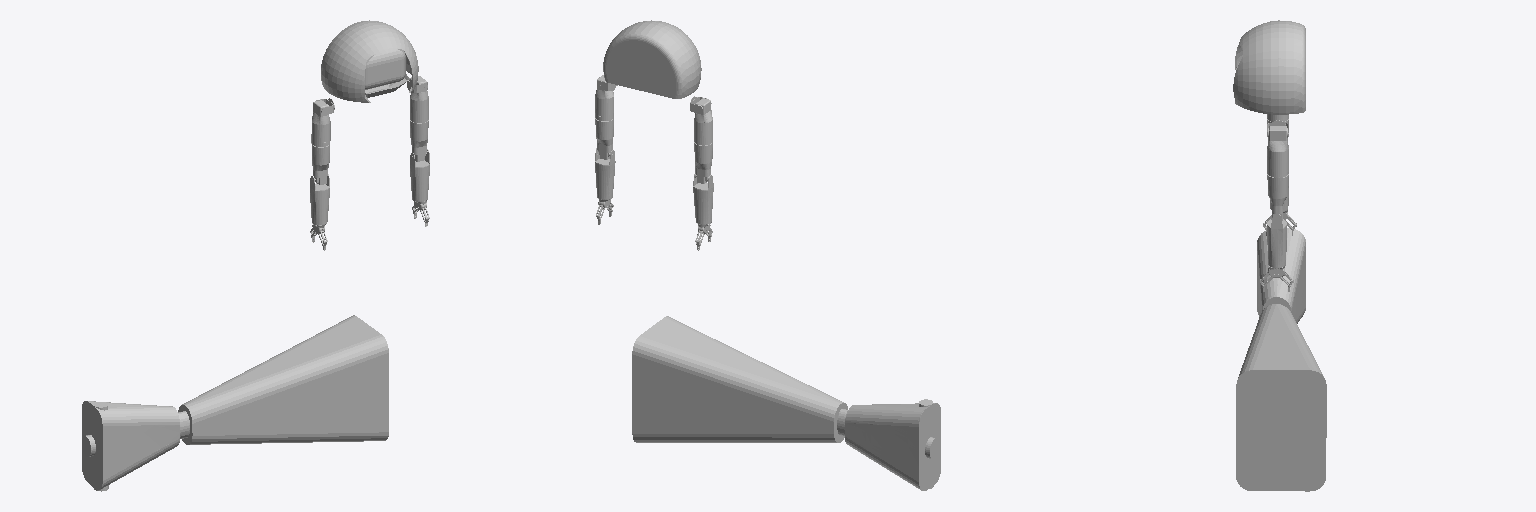
URDF robot description (main_body):
<?xml version="1.0"?>
   <robot xmlns:xacro="http://ros.org/wiki/xacro" name="main_body">
   
   <link name="base_link">
       <visual name="">
           <origin xyz="0.0 0.0 0.0" rpy="-1.5750 0.0 0.0"/>
           <geometry>
               <mesh filename="package://anya_v2/meshes/body.dae" scale="0.001 0.001 0.001"/>
           </geometry>
       </visual>
       <collision>
            <origin xyz="0.0 0.0 0.0" rpy="-1.5750 0.0 0.0"/>
            <geometry>
                <mesh filename="package://anya_v2/meshes/body.stl" scale="0.001 0.001 0.001"/>
            </geometry>
       </collision>
   </link>
   
    <link name="disc1_link">
       <visual>
          <geometry>   
            <mesh filename="package://anya_v2/meshes/disc.dae" scale="0.001 0.001 0.001"/>                  
          </geometry>
          <origin xyz="0.0 0.0 0.0" rpy="0 0 0"/>         
       </visual>
     </link>
     <joint name="disc1_joint" type="revolute">
         <parent link="base_link"/>
         <child link="disc1_link"/>
         <axis xyz="0 1 0"/>
         <limit lower="-1.59" upper="1.59" velocity="50.0" effort="1000.0"/>
         <origin xyz="0.16 -0.01 1.084" rpy="-1.575 1.575 0"/>
     </joint>

   <link name="lc5_link">
       <visual>
          <geometry>   
            <mesh filename="package://anya_v2/meshes/c5.dae" scale="0.001 0.001 0.001"/>                  
          </geometry>
          <origin xyz="0.0 0.0 0" rpy="0 0 0"/>         
       </visual>
       <collision>
         <geometry>
            <mesh filename="package://anya_v2/meshes/c5.stl" scale="0.001 0.001 0.001"/>
         </geometry>
       </collision>
       <inertial>
         <mass value="0.016"/>
         <inertia ixx="0.0" ixy="0.0" ixz="0.0" iyy="0.0" iyz="0.0" izz="0.0"/>
       </inertial>
     </link>
     <joint name="l1_joint" type="fixed">
         <parent link="disc1_link"/>
         <child link="lc5_link"/>
         <origin xyz="0 -0.035 -0.025" rpy="-1.575 3.14 0"/>
     </joint>
     
     <link name="lc4_link">
       <visual>
        <geometry>
          <mesh filename="package://anya_v2/meshes/c4.dae" scale="0.001 0.001 0.001"/>
        </geometry>
        <origin xyz="0.0 -0.005 0.0" rpy="0.0 0.0 0.0"/>
       </visual>
       <collision>
         <geometry>
            <mesh filename="package://anya_v2/meshes/c4.stl" scale="0.001 0.001 0.001"/>
         </geometry>
       </collision>
       <inertial>
         <mass value="0.237"/>
         <inertia ixx="0.0" ixy="0.0" ixz="0.0" iyy="0.0" iyz="0.0" izz="0.0"/>
       </inertial>
     </link>

     <joint name="l2_joint" type="revolute">
       <parent link="lc5_link"/>
       <child link="lc4_link"/>
       <axis xyz="0 1 0"/>
       <limit lower="-3.14159" upper="3.14159" velocity="50.0" effort="1000.0"/>
       <origin xyz="0 -0.0 0" rpy="0 0 0"/>
     </joint> 

      <link name="lc3_link">
       <visual>
        <geometry>
          <mesh filename="package://anya_v2/meshes/c3.dae" scale="0.001 0.001 0.001"/>
        </geometry>
        <origin xyz="-0 0 0.0" rpy="0 0 0.0"/>
       </visual>
       <collision>
         <geometry>
            <mesh filename="package://anya_v2/meshes/c3.stl" scale="0.001 0.001 0.001"/>
         </geometry>
       </collision>
       <inertial>
         <mass value="0.131"/>
         <inertia ixx="0.0" ixy="0.0" ixz="0.0" iyy="0.0" iyz="0.0" izz="0.0"/>
       </inertial>
     </link>

     <joint name="l3_joint" type="revolute">
       <parent link="lc4_link"/>
       <child link="lc3_link"/>
       <axis xyz="1 0 0"/>
       <limit lower="-3.14159" upper="3.14159" velocity="50.0" effort="1000.0"/>
       <origin xyz="-0.130 0.025 0.0" rpy="0 0 0"/>
     </joint>

     <link name="lc2_link">
       <visual>
        <geometry>
          <mesh filename="package://anya_v2/meshes/c2.dae" scale="0.001 0.001 0.001"/>
        </geometry>
        <origin xyz="0 0 0.0" rpy="0 0 0.0"/>
       </visual>
       <collision>
         <geometry>
            <mesh filename="package://anya_v2/meshes/c2.stl" scale="0.001 0.001 0.001"/>
         </geometry>
       </collision>
       <inertial>
         <mass value="0.146"/>
         <inertia ixx="0.0" ixy="0.0" ixz="0.0" iyy="0.0" iyz="0.0" izz="0.0"/>
       </inertial>
     </link>

     <joint name="l4_joint" type="revolute">
       <parent link="lc3_link"/>
       <child link="lc2_link"/>
       <axis xyz="0 0 1"/>
       <limit lower="-3.14159" upper="3.14159" velocity="50.0" effort="1000.0"/>
       <origin xyz="-0.13950 -0.004 -0.02250" rpy="0 0 0"/>
     </joint>

     <link name="lc1_link">
       <visual>
        <geometry>
          <mesh filename="package://anya_v2/meshes/gripper.dae" scale="0.001 0.001 0.001"/>
        </geometry>
        <origin xyz="-0 0 0.0" rpy="0 0 0.0"/>
       </visual>
       <collision>
         <geometry>
            <mesh filename="package://anya_v2/meshes/gripper.stl" scale="0.001 0.001 0.001"/>
         </geometry>
       </collision>
       <inertial>
         <mass value="0.083"/>
         <inertia ixx="0.0" ixy="0.0" ixz="0.0" iyy="0.0" iyz="0.0" izz="0.0"/>
       </inertial>
     </link>
     <joint name="l5_joint" type="revolute">
       <parent link="lc2_link"/>
       <child link="lc1_link"/>
       <axis xyz="1 0 0"/>
       <limit lower="-3.14159" upper="3.14159" velocity="50.0" effort="1000.0"/>
       <origin xyz="-0.17 0.0 0.02" rpy="0 0 0"/>
     </joint>
     <!--
     <link name="gripper_link">
       <visual>
        <geometry>
          <mesh filename="package://anya_v2/meshes/gripper.dae" scale="0.001 0.001 0.001"/>
        </geometry>
        <origin xyz="-0 0 0.0" rpy="0 0 0.0"/>
       </visual>
       <collision>
         <geometry>
            <mesh filename="package://anya_v2/meshes/gripper.stl" scale="0.001 0.001 0.001"/>
         </geometry>
       </collision>
       <inertial>
         <mass value="0.083"/>
         <inertia ixx="0.0" ixy="0.0" ixz="0.0" iyy="0.0" iyz="0.0" izz="0.0"/>
       </inertial>
     </link>
     <joint name="gripper_joint" type="fixed">
       <parent link="lc1_link"/>
       <child link="gripper_link"/>
       <origin xyz="-0.113 0.0 0.0" rpy="0 0 0"/>
     </joint>
-->
       <link name="disc_link">
       <visual>
          <geometry>   
            <mesh filename="package://anya_v2/meshes/disc.dae" scale="0.001 0.001 0.001"/>                  
          </geometry>
          <origin xyz="0.0 0.0 0.0" rpy="0 0 0"/>         
       </visual>
     </link>
     <joint name="disc_joint" type="revolute">
         <parent link="base_link"/>
         <child link="disc_link"/>
         <axis xyz="0 1 0"/>
         <limit lower="-1.59" upper="1.59" velocity="50.0" effort="1000.0"/>
         <origin xyz="-0.16 -0.01 1.084" rpy="-1.575 1.575 0"/>
     </joint>
     <link name="rone_link">
       <visual>
          <geometry>   
            <mesh filename="package://anya_v2/meshes/c5.dae" scale="0.001 0.001 0.001"/>                  
          </geometry>
          <origin xyz="0.0 0.0 0.0" rpy="0 0 0"/>         
       </visual>
       <collision>
         <geometry>
            <mesh filename="package://anya_v2/meshes/c5.stl" scale="0.001 0.001 0.001"/>
         </geometry>
       </collision>
       <inertial>
         <mass value="0.016"/>
         <inertia ixx="0.0" ixy="0.0" ixz="0.0" iyy="0.0" iyz="0.0" izz="0.0"/>
       </inertial>
     </link>
      <joint name="r1_joint" type="fixed">
         <parent link="disc_link"/>
         <child link="rone_link"/>
         <origin xyz="0.0 0.039 0.025" rpy="1.575 3.14 0"/>
     </joint>

     <link name="c4_link">
       <visual>
        <geometry>
          <mesh filename="package://anya_v2/meshes/c4.dae" scale="0.001 0.001 0.001"/>
        </geometry>
        <origin xyz="0.0 -0.005 0.0" rpy="0.0 0.0 0.0"/>
       </visual>
       <collision>
         <geometry>
            <mesh filename="package://anya_v2/meshes/c4.stl" scale="0.001 0.001 0.001"/>
         </geometry>
       </collision>
       <inertial>
         <mass value="0.237"/>
         <inertia ixx="0.0" ixy="0.0" ixz="0.0" iyy="0.0" iyz="0.0" izz="0.0"/>
       </inertial>
     </link>
     <joint name="first_joint" type="revolute">
       <parent link="rone_link"/>
       <child link="c4_link"/>
       <axis xyz="0 1 0"/>
       <limit lower="-3.14159" upper="3.14159" velocity="50.0" effort="1000.0"/>
       <origin xyz="0 -0.0 0" rpy="0 0 0"/>
     </joint> 
      <link name="c3_link">
       <visual>
        <geometry>
          <mesh filename="package://anya_v2/meshes/c3.dae" scale="0.001 0.001 0.001"/>
        </geometry>
        <origin xyz="-0 0 0.0" rpy="0 0 0.0"/>
       </visual>
       <collision>
         <geometry>
            <mesh filename="package://anya_v2/meshes/c3.stl" scale="0.001 0.001 0.001"/>
         </geometry>
       </collision>
       <inertial>
         <mass value="0.131"/>
         <inertia ixx="0.0" ixy="0.0" ixz="0.0" iyy="0.0" iyz="0.0" izz="0.0"/>
       </inertial>
     </link>
     <joint name="second_joint" type="revolute">
       <parent link="c4_link"/>
       <child link="c3_link"/>
       <axis xyz="1 0 0"/>
       <limit lower="-3.14159" upper="3.14159" velocity="50.0" effort="1000.0"/>
       <origin xyz="-0.130 0.025 0.0" rpy="0 0 0"/>
     </joint>
     <link name="c2_link">
       <visual>
        <geometry>
          <mesh filename="package://anya_v2/meshes/c2.dae" scale="0.001 0.001 0.001"/>
        </geometry>
        <origin xyz="0 0 0.0" rpy="0 0 0.0"/>
       </visual>
       <collision>
         <geometry>
            <mesh filename="package://anya_v2/meshes/c2.stl" scale="0.001 0.001 0.001"/>
         </geometry>
       </collision>
       <inertial>
         <mass value="0.146"/>
         <inertia ixx="0.0" ixy="0.0" ixz="0.0" iyy="0.0" iyz="0.0" izz="0.0"/>
       </inertial>
     </link>
     <joint name="third_joint" type="revolute">
       <parent link="c3_link"/>
       <child link="c2_link"/>
       <axis xyz="0 0 1"/>
       <limit lower="-3.14159" upper="3.14159" velocity="50.0" effort="1000.0"/>
       <origin xyz="-0.13950 -0.004 -0.02250" rpy="0 0 0"/>
     </joint>
     <link name="c1_link">
       <visual>
        <geometry>
          <mesh filename="package://anya_v2/meshes/gripper.dae" scale="0.001 0.001 0.001"/>
        </geometry>
        <origin xyz="-0 0 0.0" rpy="0 0 0.0"/>
       </visual>
       <collision>
         <geometry>
            <mesh filename="package://anya_v2/meshes/gripper.stl" scale="0.001 0.001 0.001"/>
         </geometry>
       </collision>
       <inertial>
         <mass value="0.083"/>
         <inertia ixx="0.0" ixy="0.0" ixz="0.0" iyy="0.0" iyz="0.0" izz="0.0"/>
       </inertial>
     </link>
     
     <joint name="4th_joint" type="revolute">
       <parent link="c2_link"/>
       <child link="c1_link"/>
       <axis xyz="1 0 0"/>
       <limit lower="-3.14159" upper="3.14159" velocity="50.0" effort="1000.0"/>
       <origin xyz="-0.17 0.0 0.02" rpy="0 0 0"/>
     </joint>
     <!--   
     <link name="rgripper_link">
       <visual>
        <geometry>
          <mesh filename="package://anya_v2/meshes/gripper.dae" scale="0.001 0.001 0.001"/>
        </geometry>
        <origin xyz="-0 0 0.0" rpy="0 0 0.0"/>
       </visual>
       <collision>
         <geometry>
            <mesh filename="package://anya_v2/meshes/gripper.stl" scale="0.001 0.001 0.001"/>
         </geometry>
       </collision>
       <inertial>
         <mass value="0.083"/>
         <inertia ixx="0.0" ixy="0.0" ixz="0.0" iyy="0.0" iyz="0.0" izz="0.0"/>
       </inertial>
     </link>
     <joint name="rgripper_joint" type="fixed">
       <parent link="c1_link"/>
       <child link="rgripper_link"/>
       <origin xyz="-0.113 0.0 0.0" rpy="0 0 0"/>
     </joint>
-->
     <link name="head_link">
       <visual>
        <geometry>
          <mesh filename="package://anya_v2/meshes/head3.dae" scale="0.001 0.001 0.001"/>
        </geometry>
        <origin xyz="-0 0 0.0" rpy="0 0 0.0"/>
       </visual>
       <collision>
         <geometry>
            <mesh filename="package://anya_v2/meshes/head3.stl" scale="0.001 0.001 0.001"/>
         </geometry>
       </collision>
     </link>
     <joint name="head_joint" type="revolute">
       <parent link="base_link"/>
       <child link="head_link"/>
       <axis xyz="0 0 1"/>
       <limit lower="-3.14159" upper="3.14159" velocity="50.0" effort="1000.0"/>
       <origin xyz="0.0 0.0 1.1291930" rpy="0 0 0"/>
     </joint>    
  <!-- <link name="obj_link">
    <visual>
      <geometry>
        <mesh filename="package://anya_v2/meshes/table1.dae" scale="0.025 0.03 0.015"/>
      </geometry>
      <origin xyz="0 0 0.0" rpy="0 0 0.0"/>
    </visual>
  </link>  
     <joint name="obj_joint" type="fixed">
       <parent link="obj_link"/>
       <child link="base_link"/>
       <origin xyz="-0.4 -0.2 -0.55" rpy="0 0 1.575"/>
     </joint>   -->
   </robot>

--- Render facts (derived) ---
3 views of the same robot in one strip: view 1: azimuth 30°, elevation 25°; view 2: azimuth 150°, elevation 25°; view 3: azimuth 270°, elevation 25° (orthographic).
Model main_body with 14 links and 13 joints (11 revolute, 2 fixed), rooted at base_link, posed all joints at 0.
Visible links, largest first — view 1: base_link, head_link, lc2_link, c2_link, c4_link, lc4_link, lc3_link, c3_link; view 2: base_link, head_link, c2_link, lc2_link, c4_link, c3_link, lc3_link, lc4_link; view 3: base_link, head_link, lc4_link, lc2_link, lc3_link.
Link boxes in pixels (x1,y1,x2,y2): base_link: [82, 315, 388, 491]; head_link: [321, 20, 418, 102]; lc2_link: [410, 149, 429, 202]; c2_link: [310, 174, 329, 225]; c4_link: [311, 100, 330, 146]; lc4_link: [410, 76, 428, 122]; lc3_link: [410, 120, 428, 161]; c3_link: [311, 143, 329, 184]; base_link: [632, 316, 940, 490]; head_link: [603, 20, 701, 98]; c2_link: [693, 174, 713, 225]; lc2_link: [595, 148, 615, 200]; c4_link: [694, 98, 712, 144]; c3_link: [694, 142, 712, 183]; lc3_link: [595, 118, 613, 159]; lc4_link: [595, 75, 613, 120]; base_link: [1236, 228, 1326, 491]; head_link: [1233, 20, 1305, 114]; lc4_link: [1267, 126, 1288, 177]; lc2_link: [1267, 214, 1286, 269]; lc3_link: [1267, 174, 1288, 220].
Size in the robot's own frame: 1.36 by 0.2823 by 1.55 metres.
Meshes: 8 distinct files referenced, 14 mesh visuals loaded (8 Collada DAE).
